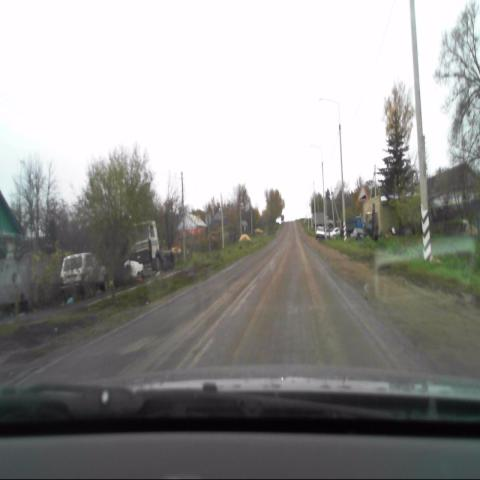1_14: (357, 186, 368, 204)
